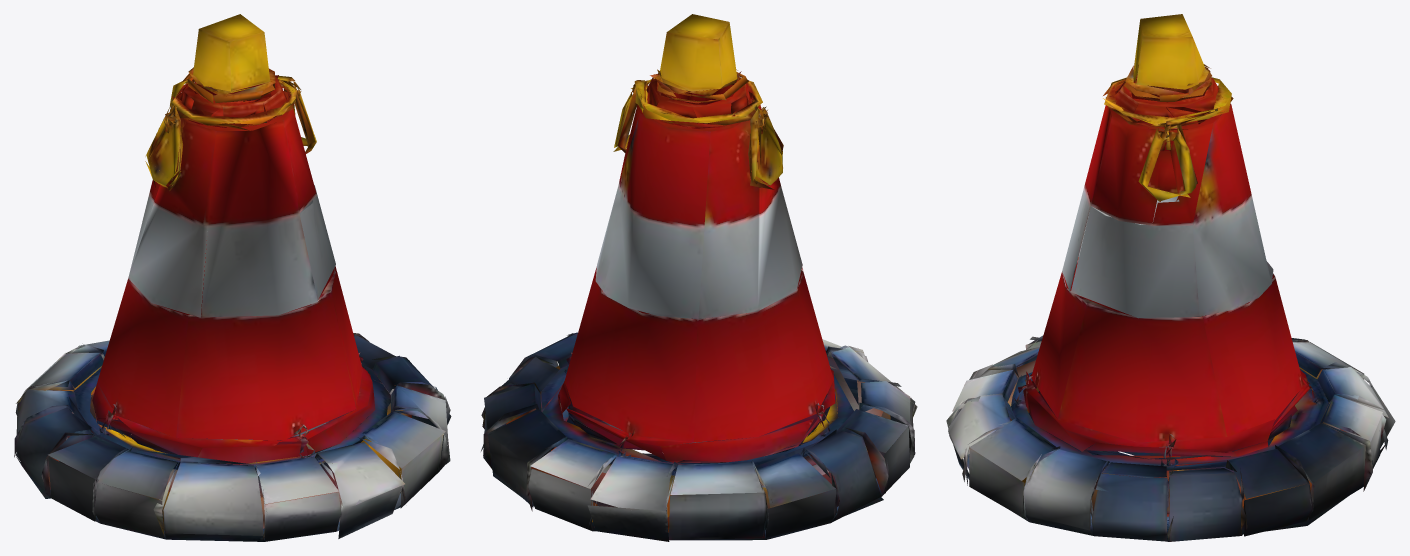
File: Buoy.glb
3 views of the same model, side by side, from view 1: azimuth 30°, elevation 25°; view 2: azimuth 150°, elevation 25°; view 3: azimuth 270°, elevation 25° (orthographic).
Parts seen in each view (by area): view 1: node_0; view 2: node_0; view 3: node_0.
Boxes of the visible parts, box(x1,y1,x2,y2) form: node_0: box(14, 14, 451, 541); node_0: box(481, 14, 917, 541); node_0: box(946, 14, 1395, 541).
Bounding box in the file's own units: 0.8382 × 0.9142 × 0.8529.
1 material, 1 textured.
